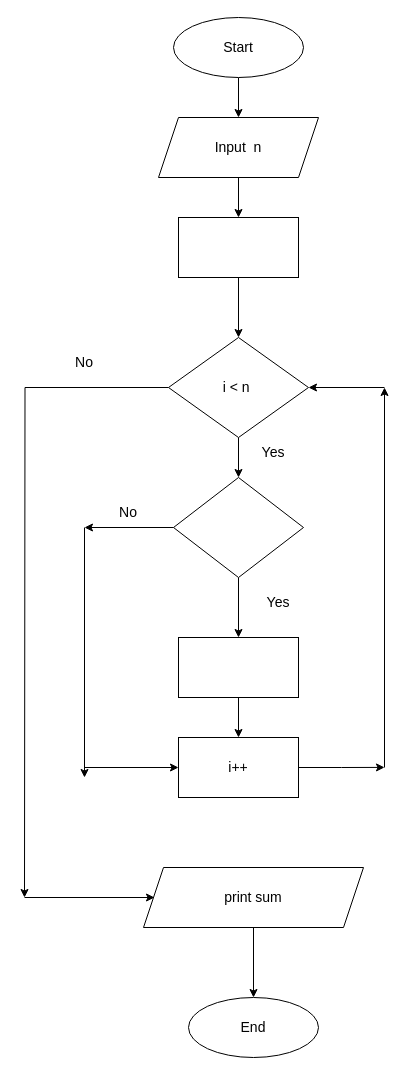
Image size: 410x1075. Some labels were removed from this diagram. The box of each missing label's shape, as (x1, y1, x2, y2) in pixels:
if i %2 == 0: (172, 476, 304, 578)
intialized i = 0 , sum = 0: (178, 216, 298, 278)
sum = sum +i: (178, 636, 298, 698)
